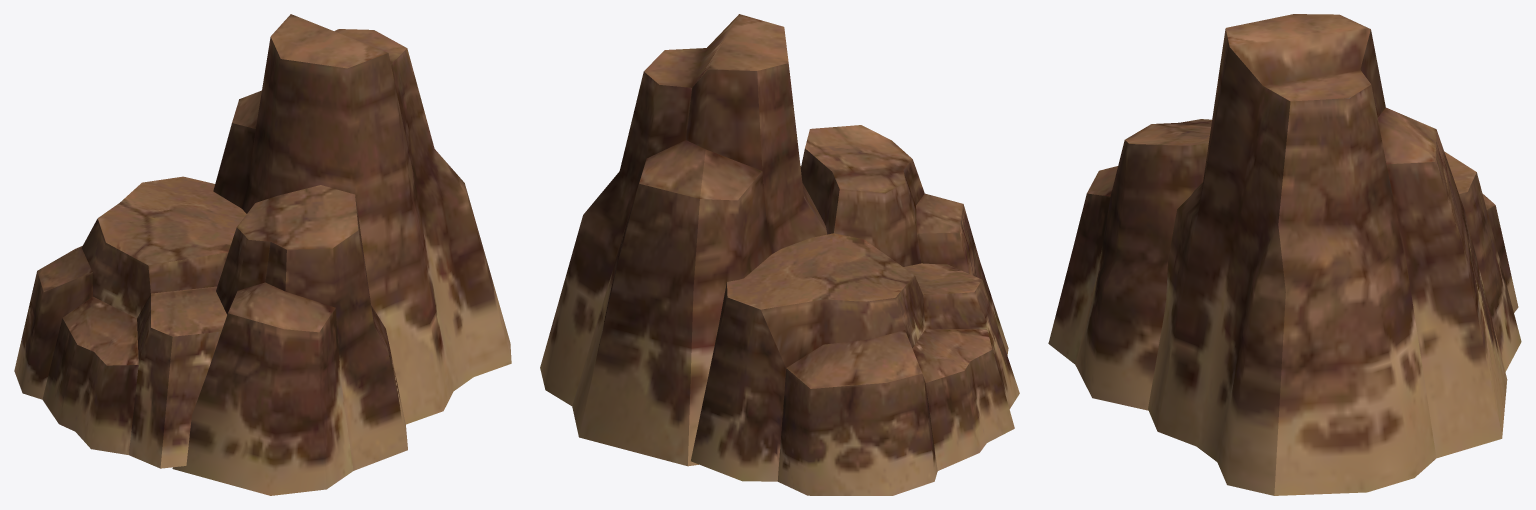
The model's file is shitou05.FBX.
The picture shows the model from 3 angles, left to right: view 1: azimuth 30°, elevation 25°; view 2: azimuth 150°, elevation 25°; view 3: azimuth 270°, elevation 25°; orthographic projection. The views are drawn at different scales.
Visible parts, largest first — view 1: shitou05; view 2: shitou05; view 3: shitou05.
Boxes of the visible parts, box(x1,y1,x2,y2) form: shitou05: box(14, 14, 511, 495); shitou05: box(540, 14, 1019, 495); shitou05: box(1048, 14, 1521, 495).
Size of the model in its own units: 934 by 710 by 814.
